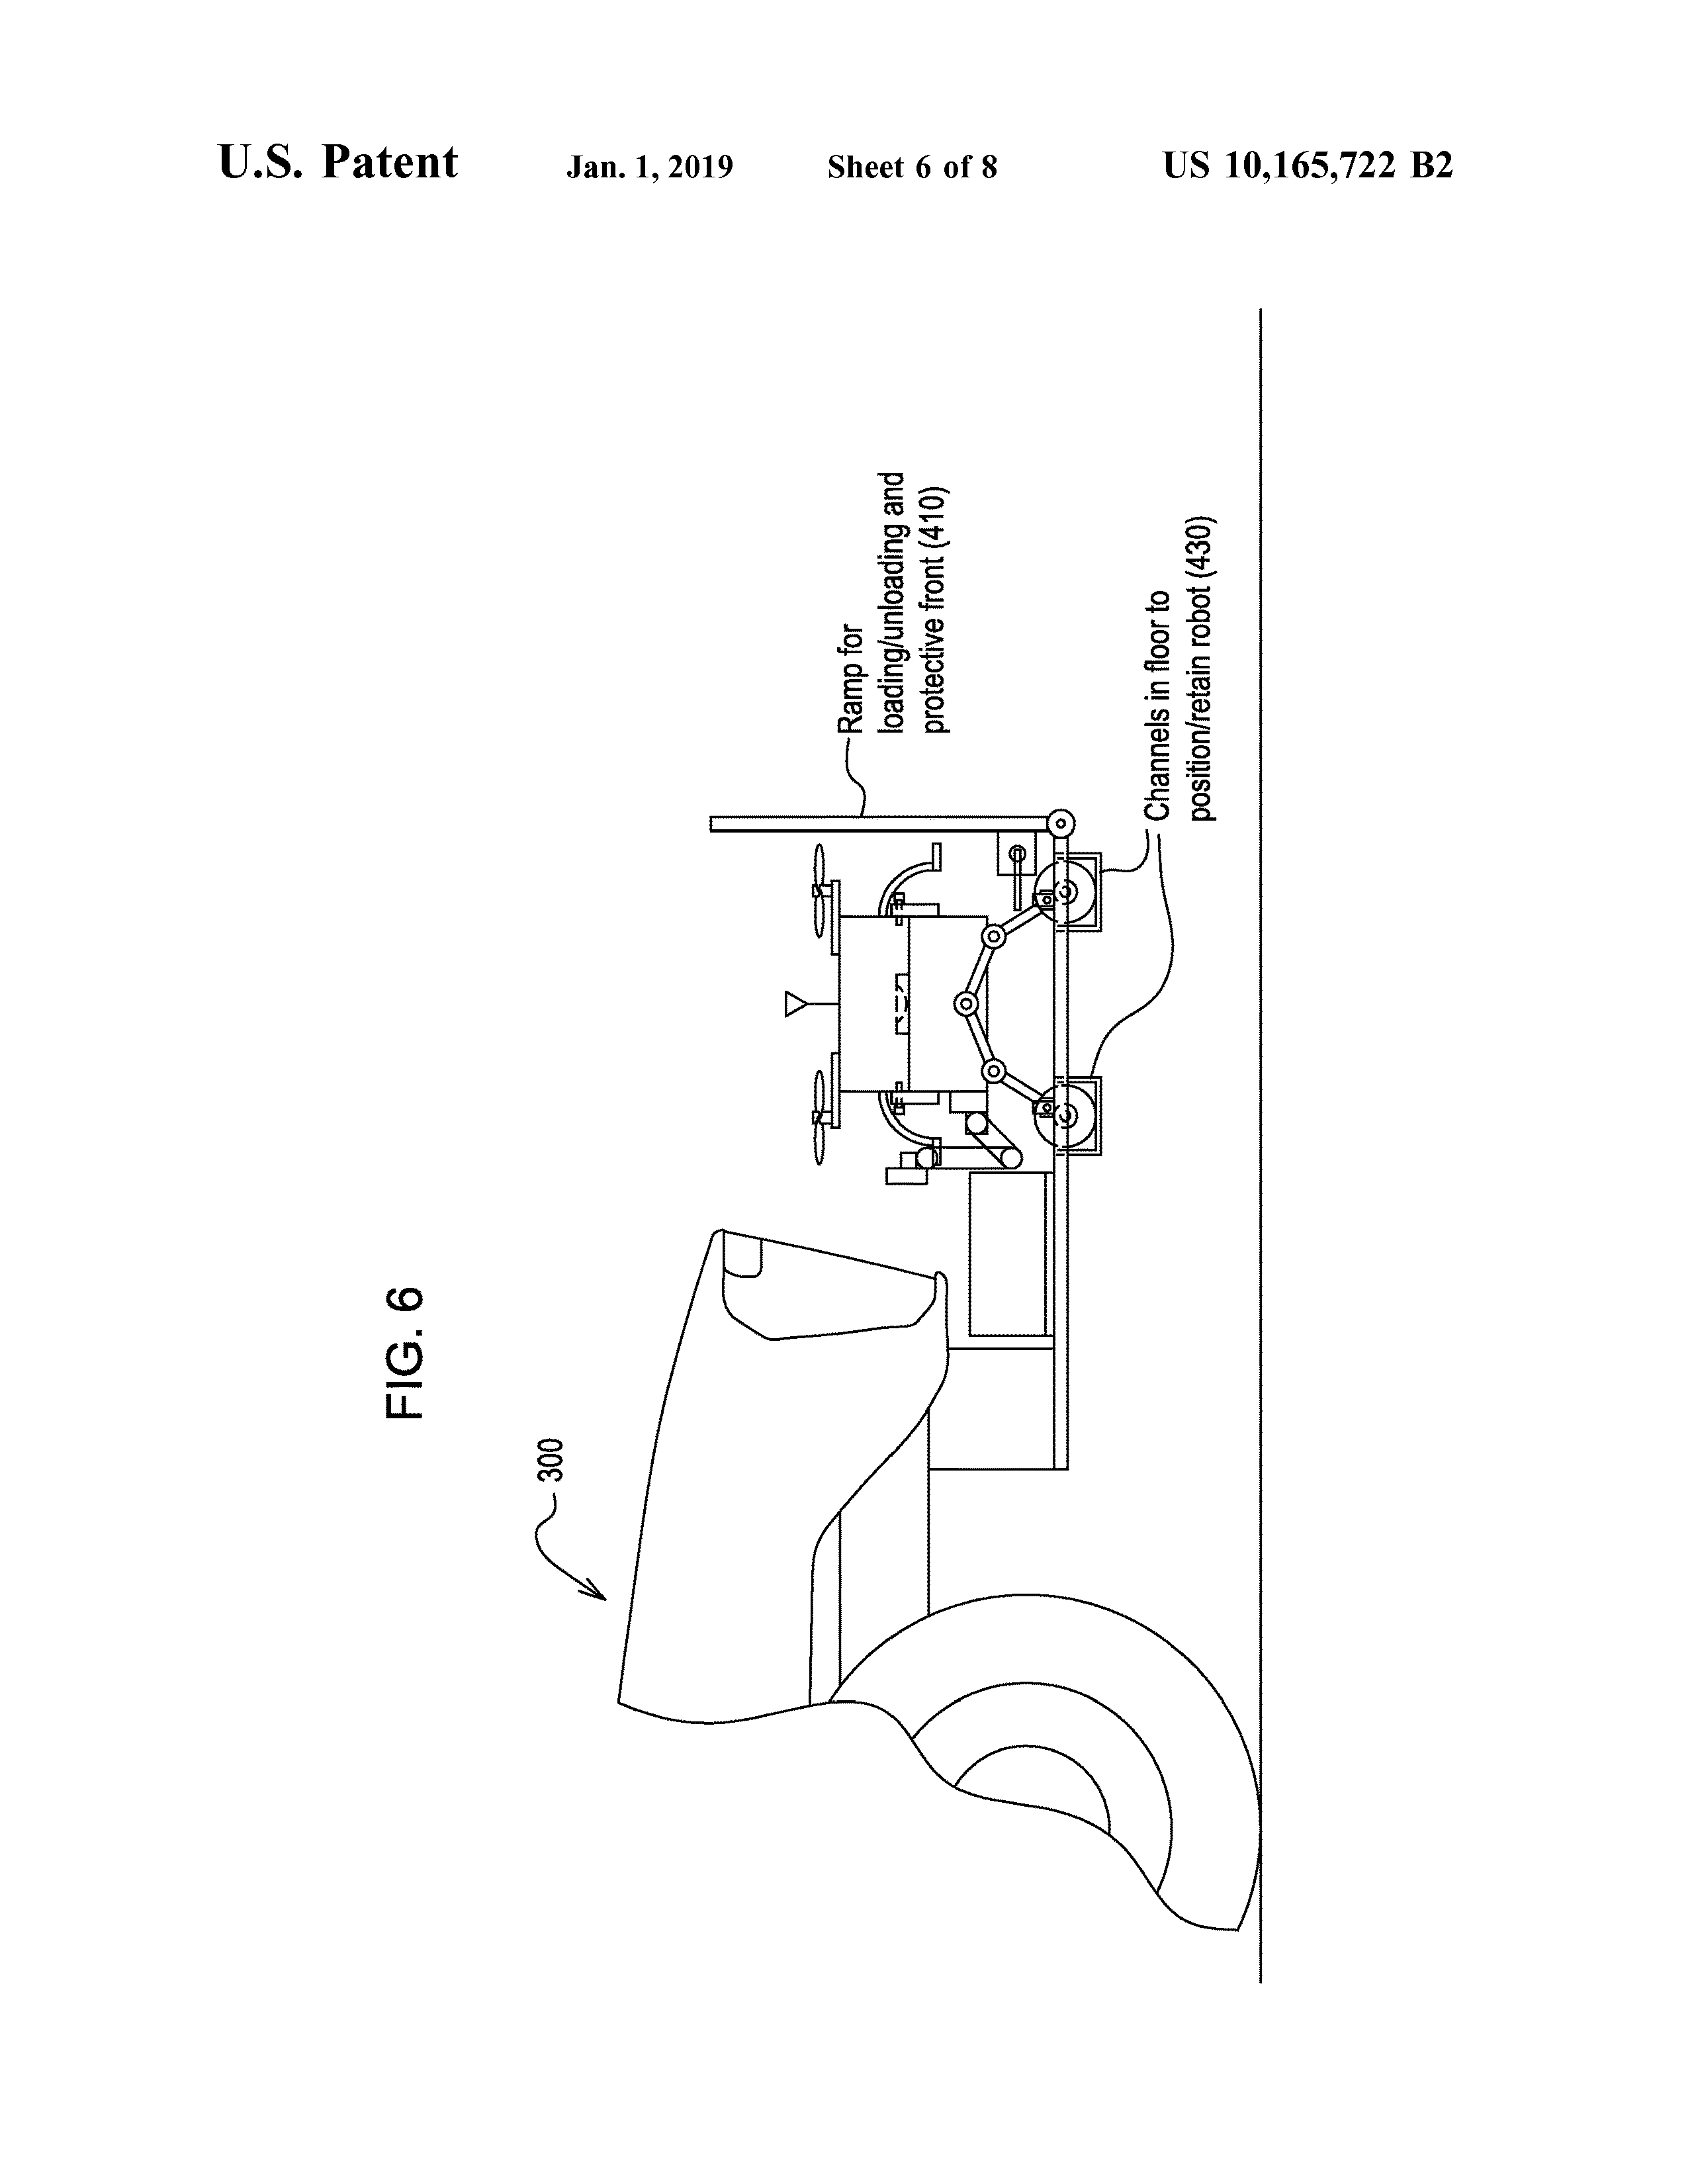patent image: (333, 282, 1351, 2020)
